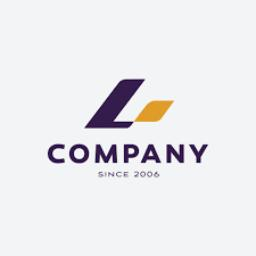a: (140, 142, 162, 166)
c: (44, 140, 68, 168), (116, 171, 122, 179)
e: (123, 170, 129, 178)
i: (103, 171, 107, 177)
m: (94, 142, 120, 166)
n: (164, 142, 186, 166), (108, 170, 114, 178)
o: (68, 143, 90, 165)
p: (122, 143, 140, 165)
s: (98, 170, 104, 178)
y: (188, 142, 210, 166)
